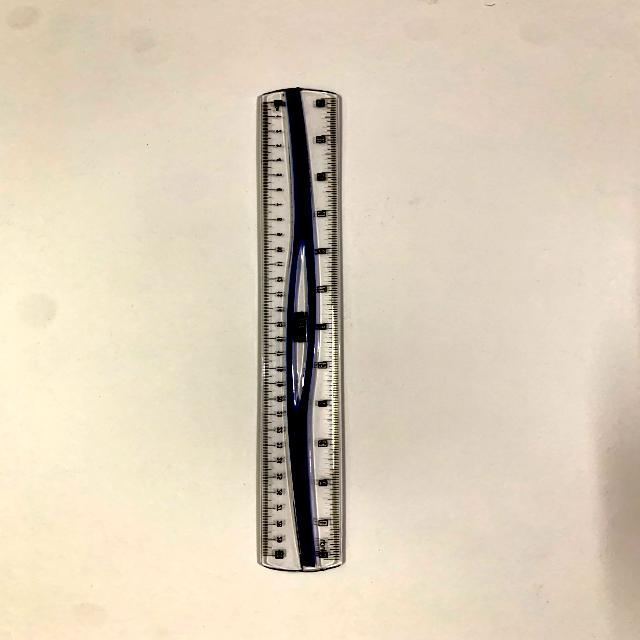Scale: (227, 67, 376, 586)
